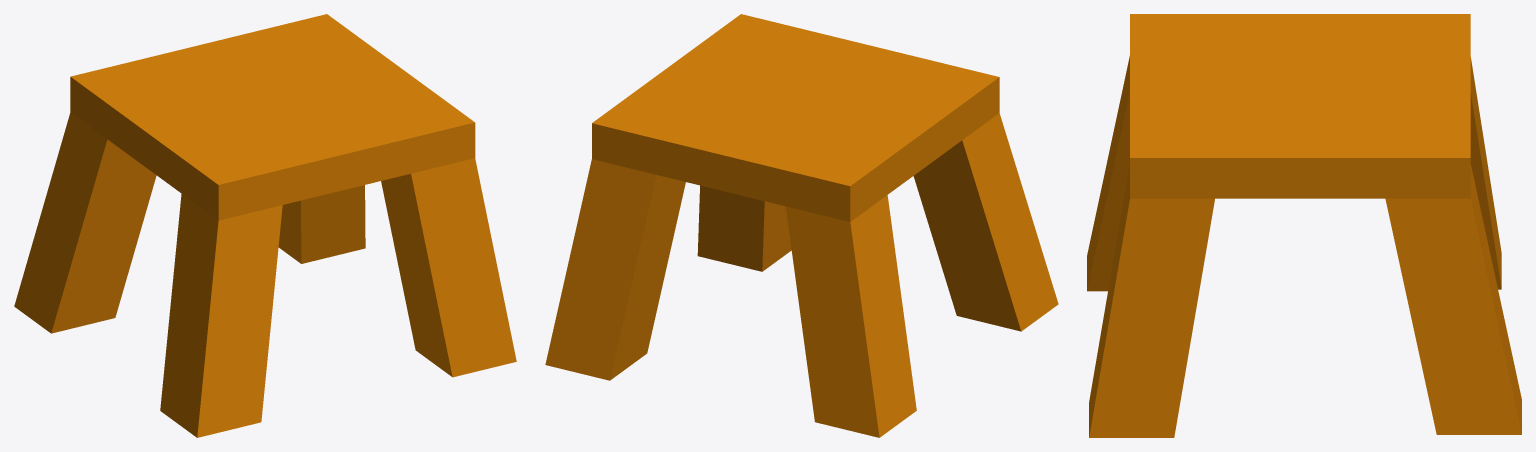
Rendered from table.glb.
3 views of the same model, side by side, from view 1: azimuth 30°, elevation 25°; view 2: azimuth 150°, elevation 25°; view 3: azimuth 270°, elevation 25° (orthographic). The views are drawn at different scales.
Visible parts, largest first — view 1: Cube; view 2: Cube; view 3: Cube.
Boxes of the visible parts, <box> form: Cube: <box>14,14,516,437</box>; Cube: <box>545,14,1058,437</box>; Cube: <box>1087,14,1521,437</box>.
Bounding box in the file's own units: 7.95 × 5.46 × 8.06.
